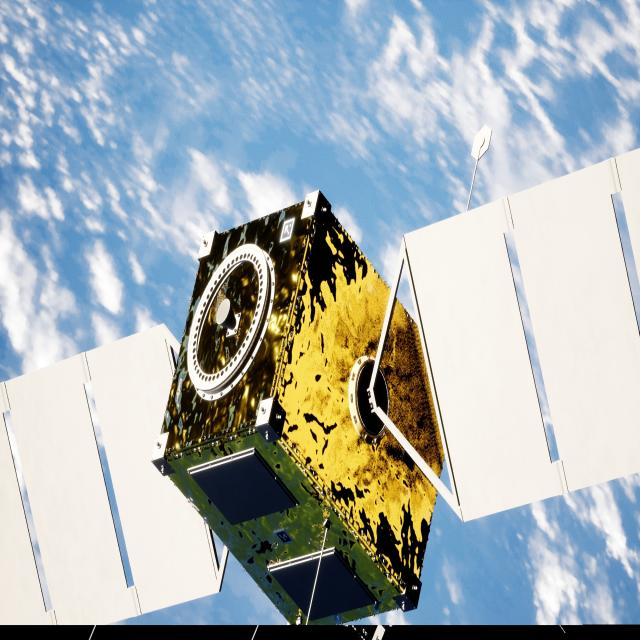medium_debris: (0, 149, 640, 626)
